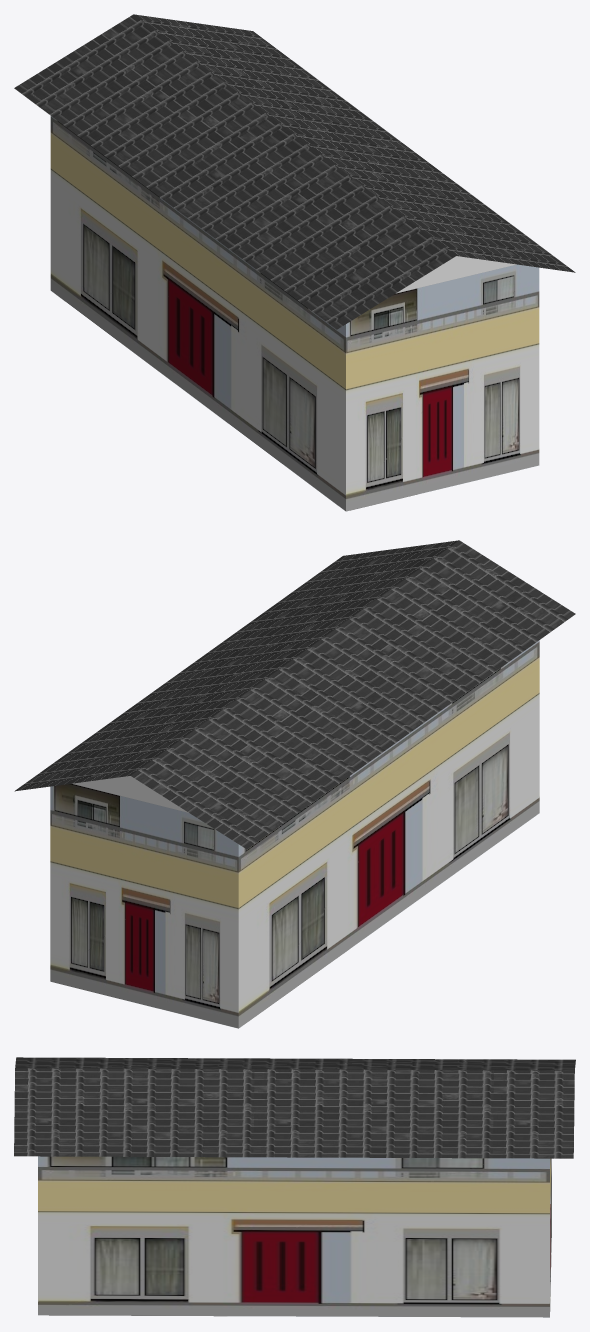
3 renders of one model, top to bottom at view 1: azimuth 30°, elevation 25°; view 2: azimuth 150°, elevation 25°; view 3: azimuth 270°, elevation 25°, orthographic. The views are drawn at different scales.
Visible parts, largest first — view 1: CityEngineMaterial_15_m, CityEngineMaterial_16_m, CityEngineMaterial_3_m; view 2: CityEngineMaterial_15_m, CityEngineMaterial_16_m, CityEngineMaterial_3_m; view 3: CityEngineMaterial_15_m, CityEngineMaterial_16_m.
Boxes of the visible parts, box(x1,y1,x2,y2) form: CityEngineMaterial_15_m: box(50, 116, 539, 511); CityEngineMaterial_16_m: box(14, 14, 575, 329); CityEngineMaterial_3_m: box(396, 256, 516, 293); CityEngineMaterial_15_m: box(50, 640, 539, 1028); CityEngineMaterial_16_m: box(14, 540, 575, 849); CityEngineMaterial_3_m: box(72, 776, 188, 812); CityEngineMaterial_15_m: box(38, 1156, 551, 1317); CityEngineMaterial_16_m: box(14, 1057, 575, 1158).
Size of the model in its own units: 10 by 9.54 by 23.47.
